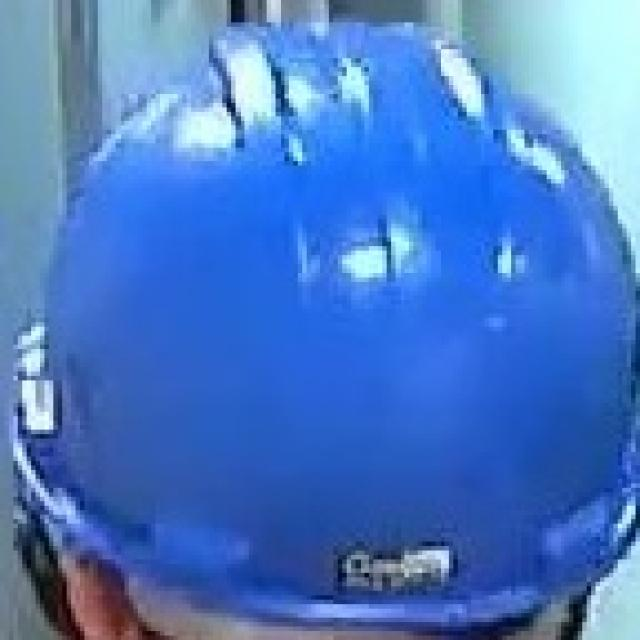helmet_blue: (2, 2, 638, 638)
